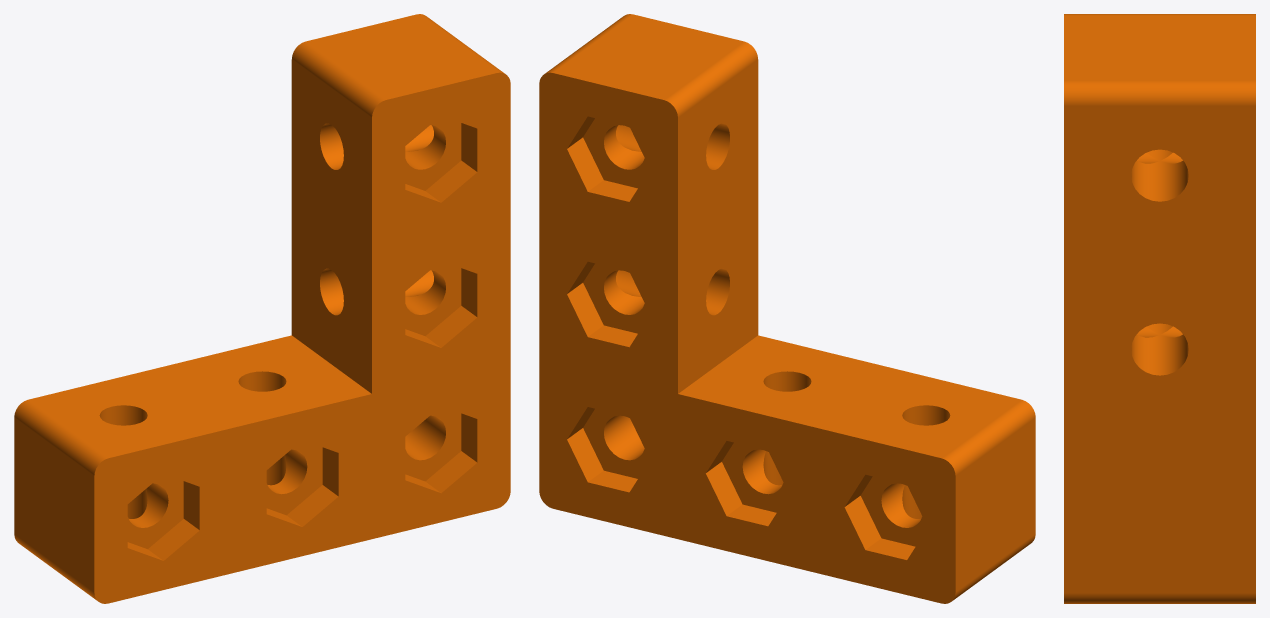
Rendered from L5N_orange.glb.
The picture shows the model from 3 angles, left to right: view 1: azimuth 30°, elevation 25°; view 2: azimuth 150°, elevation 25°; view 3: azimuth 270°, elevation 25°; orthographic projection. The views are drawn at different scales.
Visible parts, largest first — view 1: L5N_orange; view 2: L5N_orange; view 3: L5N_orange.
Part boxes in pixels (x1,y1,x2,y2): L5N_orange: (14,14,510,603); L5N_orange: (539,14,1035,603); L5N_orange: (1064,14,1255,603).
Size of the model in its own units: 0.03 by 0.03 by 0.01.
